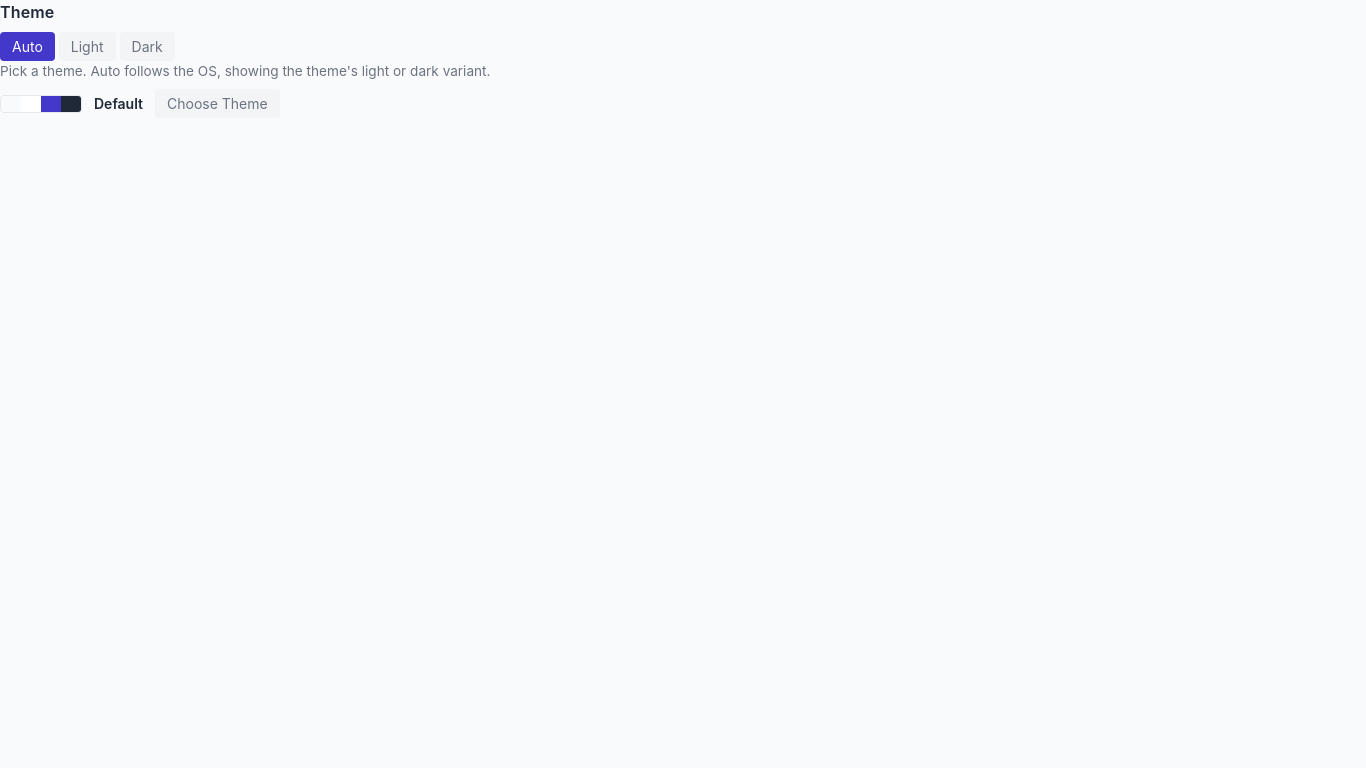
it: ThemeSettings › opens the theme picker modal
The width and height of the screenshot is (1366, 768).
Click the button "Choose theme" at (217, 104), box [155,89,280,118]
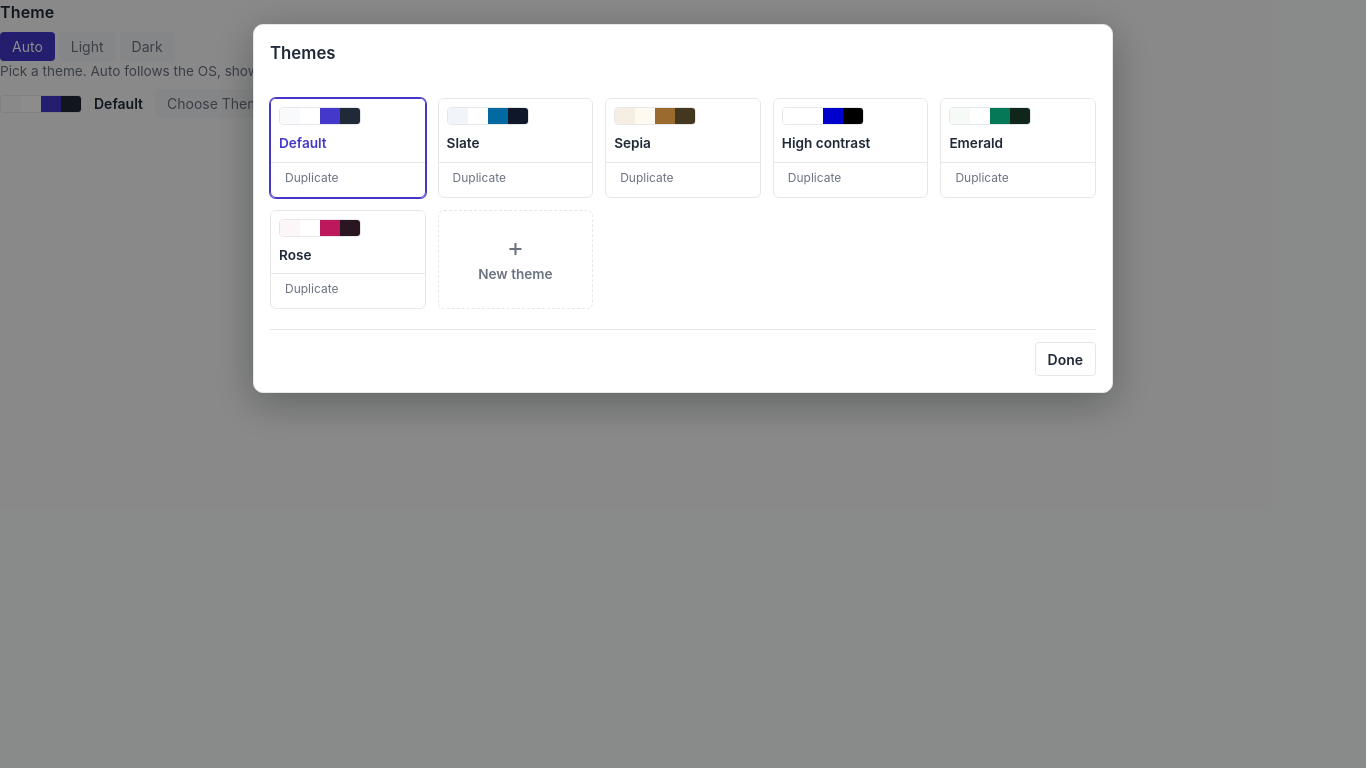
expect the dialog is shown: met, box [253,24,1113,393]
